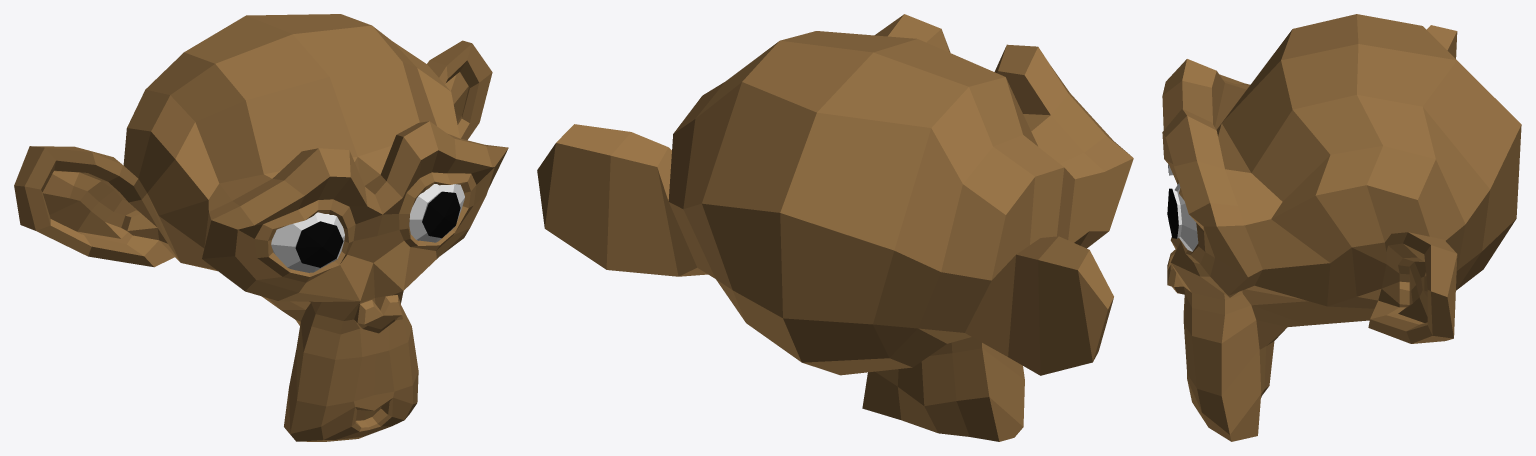
Rendered from suzane.glb.
The picture shows the model from 3 angles, left to right: view 1: azimuth 30°, elevation 25°; view 2: azimuth 150°, elevation 25°; view 3: azimuth 270°, elevation 25°; orthographic projection. The views are drawn at different scales.
Parts seen in each view (by area): view 1: Suzanne; view 2: Suzanne; view 3: Suzanne.
Boxes of the visible parts, box(x1,y1,x2,y2) form: Suzanne: box(14, 14, 508, 441); Suzanne: box(537, 14, 1133, 441); Suzanne: box(1162, 14, 1521, 441).
Size of the model in its own units: 2.73 by 1.97 by 1.7.
